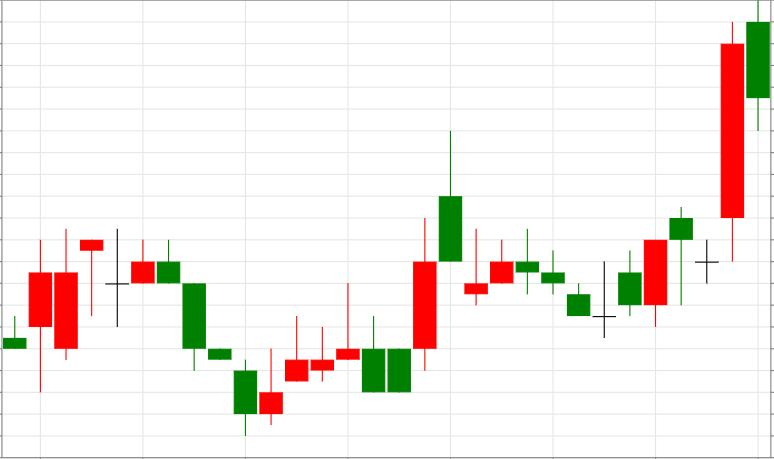inverse_hammer_rise: (158, 239, 283, 435)
